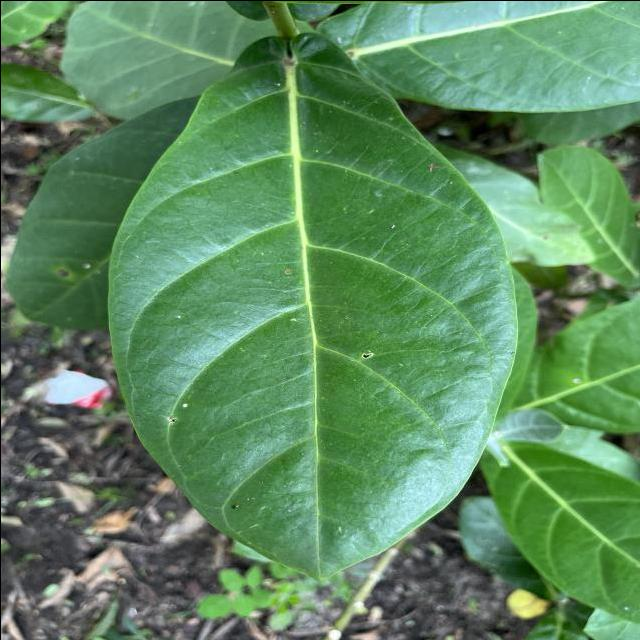Calotropis gigantea: (102, 29, 526, 588), (477, 438, 640, 624)
